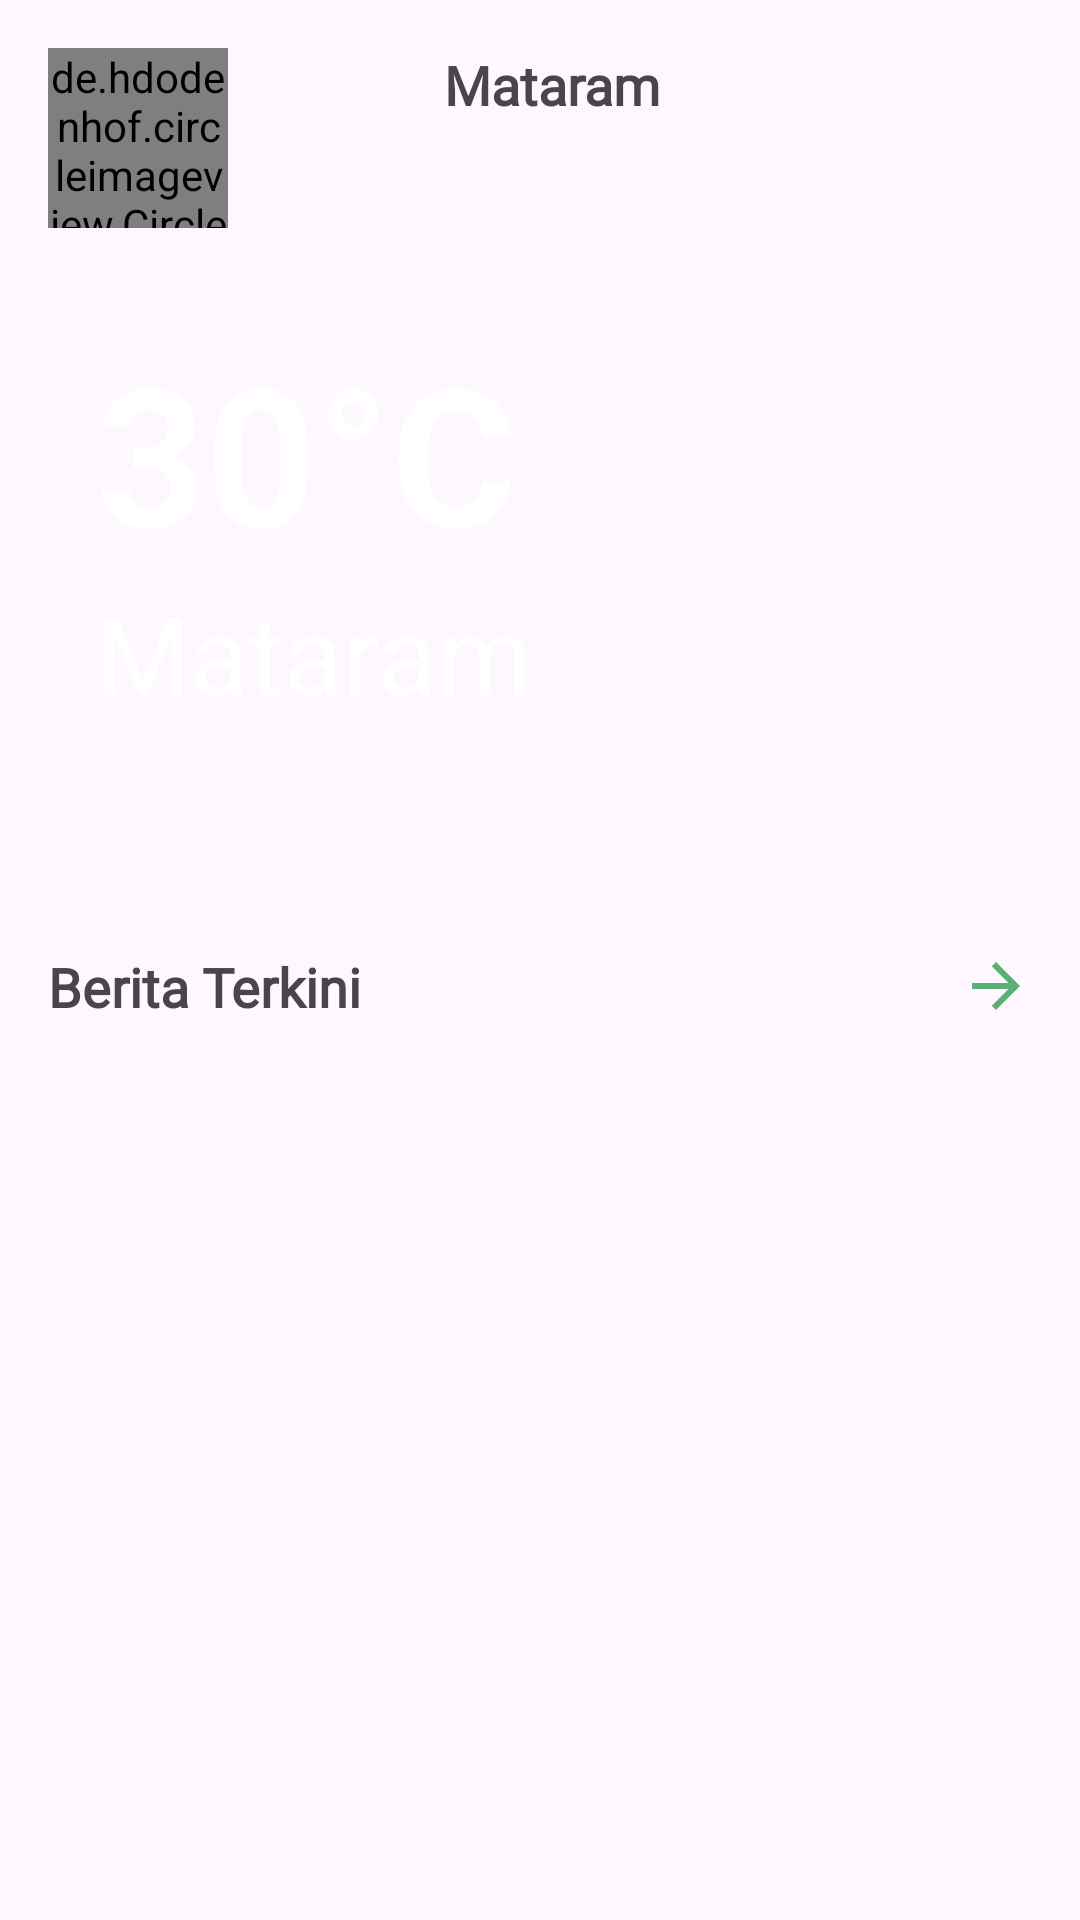

Icons on this 1080px x 1920px Android screen, each with the point to tap as point (x, y):
more: point (996, 986)
